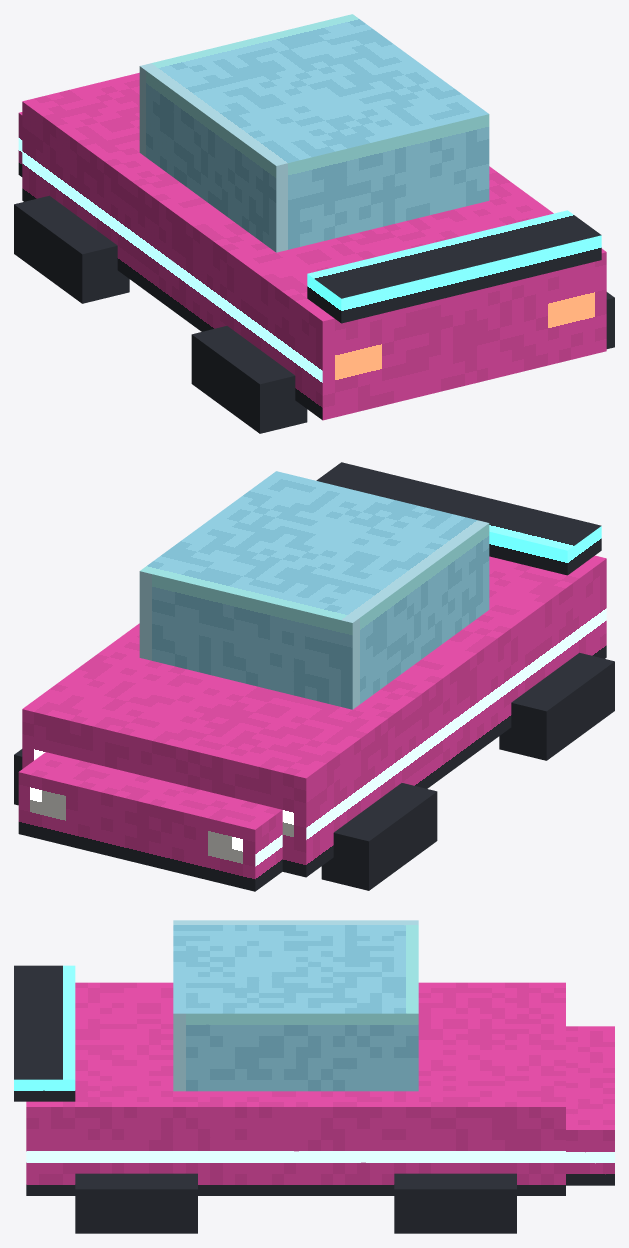
Rendered from flying_car_2.glb.
3 renders of one model, top to bottom at view 1: azimuth 30°, elevation 25°; view 2: azimuth 150°, elevation 25°; view 3: azimuth 270°, elevation 25°, orthographic. The views are drawn at different scales.
Parts seen in each view (by area): view 1: flying_car_2_hull, flying_car_2_canopy, flying_car_2_spoiler, flying_car_2_pod_lb, flying_car_2_pod_lf; view 2: flying_car_2_hull, flying_car_2_canopy, flying_car_2_nose, flying_car_2_spoiler, flying_car_2_pod_lf, flying_car_2_pod_lb; view 3: flying_car_2_hull, flying_car_2_canopy, flying_car_2_spoiler, flying_car_2_nose, flying_car_2_pod_rb, flying_car_2_pod_rf.
Boxes of the visible parts, bbox=[...] form: flying_car_2_hull: bbox=[22, 72, 606, 420]; flying_car_2_canopy: bbox=[139, 14, 489, 252]; flying_car_2_spoiler: bbox=[307, 210, 601, 323]; flying_car_2_pod_lb: bbox=[191, 326, 307, 433]; flying_car_2_pod_lf: bbox=[14, 195, 129, 303]; flying_car_2_hull: bbox=[22, 555, 606, 877]; flying_car_2_canopy: bbox=[139, 471, 489, 709]; flying_car_2_nose: bbox=[18, 752, 282, 891]; flying_car_2_spoiler: bbox=[316, 462, 601, 575]; flying_car_2_pod_lf: bbox=[321, 783, 437, 890]; flying_car_2_pod_lb: bbox=[499, 652, 614, 760]; flying_car_2_hull: bbox=[26, 982, 565, 1195]; flying_car_2_canopy: bbox=[173, 920, 418, 1091]; flying_car_2_spoiler: bbox=[14, 965, 75, 1101]; flying_car_2_nose: bbox=[566, 1026, 614, 1185]; flying_car_2_pod_rb: bbox=[75, 1173, 197, 1233]; flying_car_2_pod_rf: bbox=[394, 1173, 516, 1233].
Bounding box in the file's own units: 1.88 × 1.06 × 3.06.
1 material, 1 textured.
